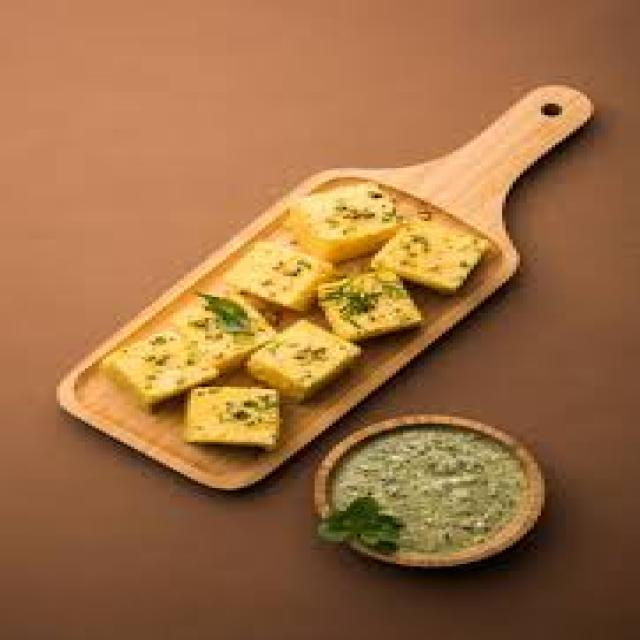DHOKLA: (78, 176, 508, 458), (97, 184, 506, 451)
